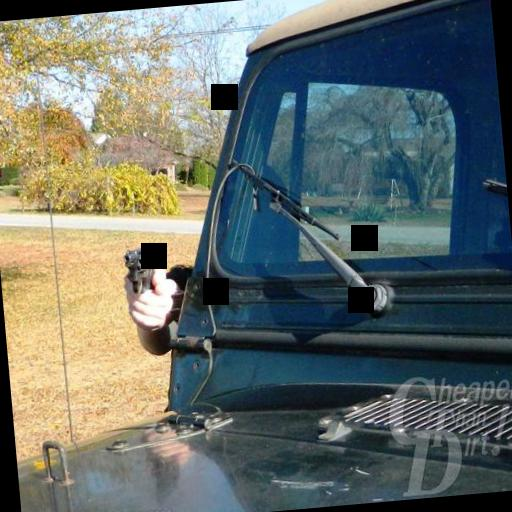Handgun: (120, 244, 164, 324)
